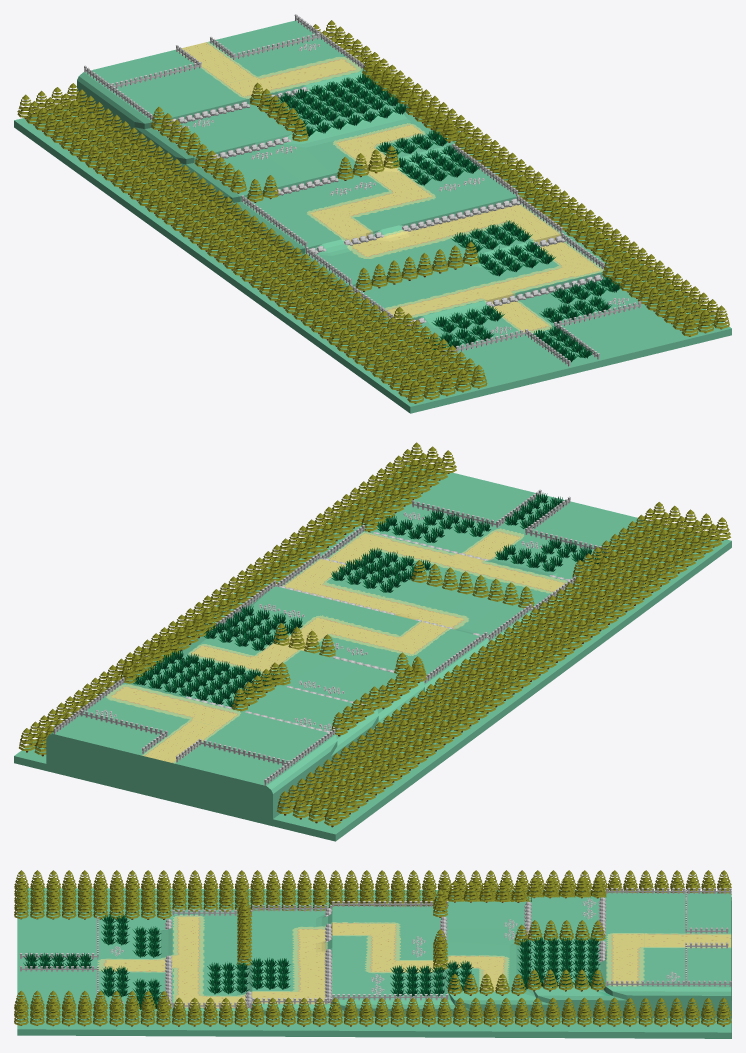
File: route01.fbx
3 views of the same model, one above another, from view 1: azimuth 30°, elevation 25°; view 2: azimuth 150°, elevation 25°; view 3: azimuth 270°, elevation 25° (orthographic). The views are drawn at different scales.
Parts seen in each view (by area): view 1: Cube, Cone.030, Plane.011, cerca sem quina.013, Pedra1.025; view 2: Cube, Cone.030, Plane.011, cerca sem quina.013, Pedra1.025; view 3: Cube, Cone.030, Plane.011, cerca sem quina.013, Pedra1.025, flor vermelha.042.
Part boxes in pixels (box(x1,y1,x2,y2)): Cube: box(14, 20, 731, 413); Cone.030: box(17, 20, 729, 403); Plane.011: box(264, 73, 621, 362); cerca sem quina.013: box(84, 14, 641, 366); Pedra1.025: box(164, 87, 603, 325); Cube: box(14, 465, 731, 841); Cone.030: box(19, 442, 730, 827); Plane.011: box(133, 493, 607, 708); cerca sem quina.013: box(53, 489, 609, 785); Pedra1.025: box(185, 532, 570, 732); Cube: box(17, 888, 731, 1038); Cone.030: box(14, 870, 731, 1026); Plane.011: box(23, 914, 600, 1009); cerca sem quina.013: box(19, 888, 731, 1008); Pedra1.025: box(165, 897, 606, 1007); flor vermelha.042: box(110, 900, 676, 1004).
Bounding box in the file's own units: 7580 × 1308 × 16267.
